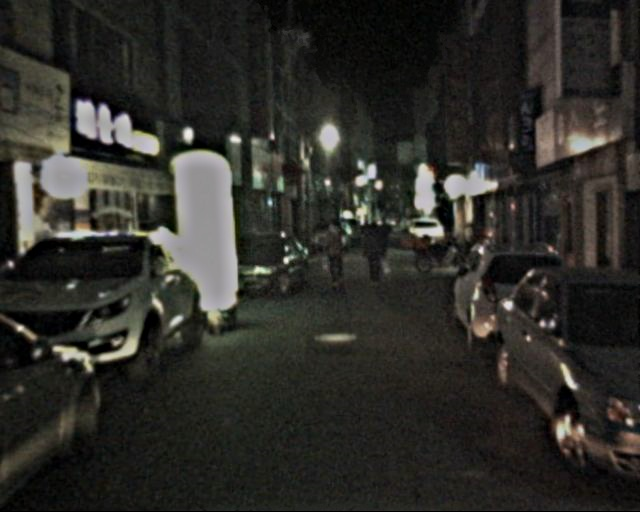person: (317, 217, 347, 290), (359, 221, 386, 286)
